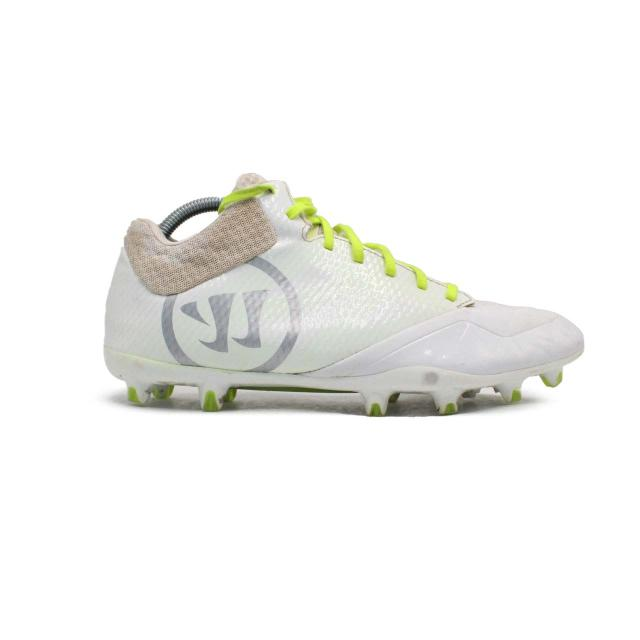heel: (107, 219, 166, 354)
midsole: (103, 341, 584, 417)
uppersole: (159, 172, 582, 381)
